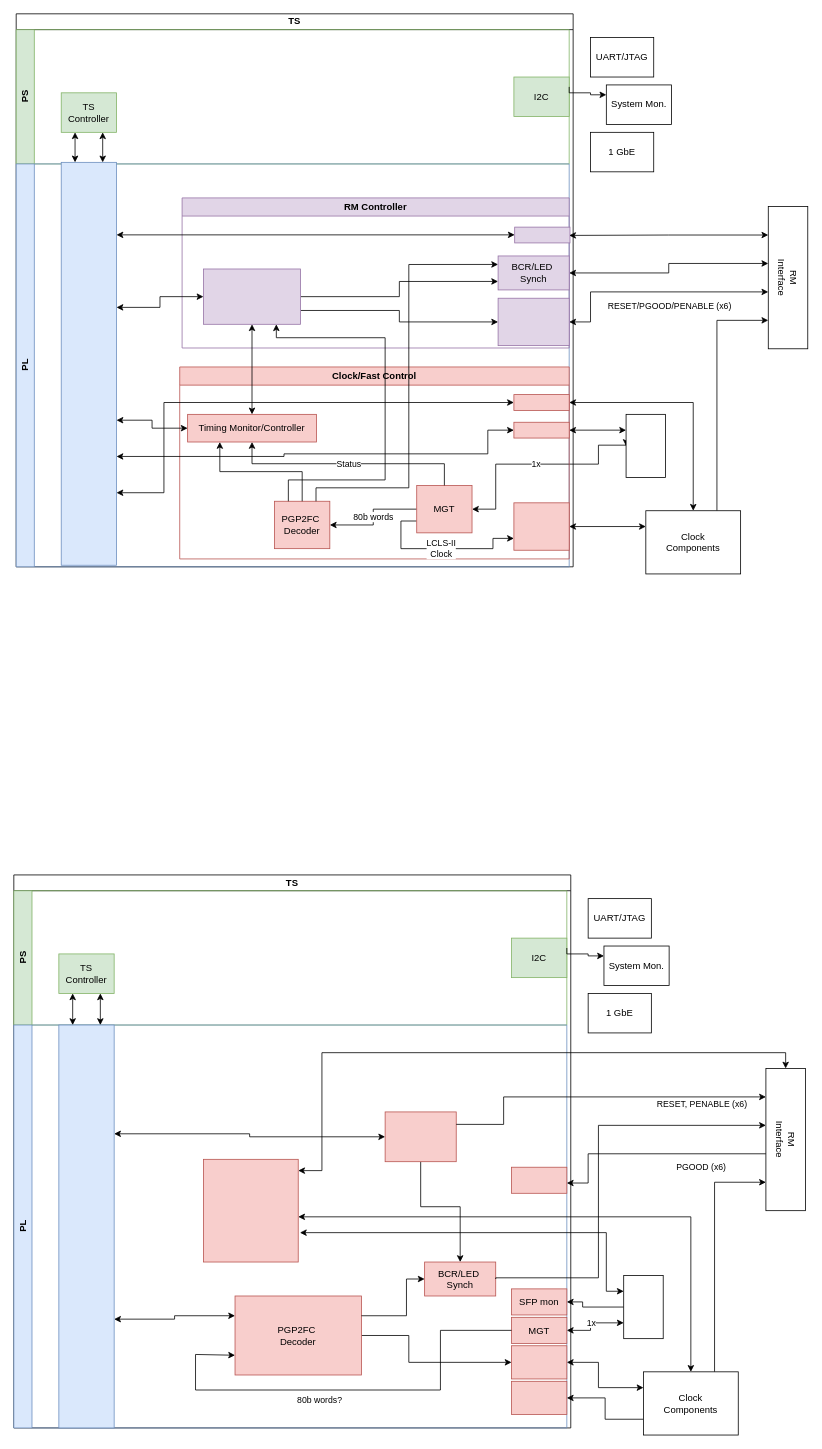
This 822x1449 diagram has some shape labels left out. The shapes that lost their labels are listed below. From the top down, each one's centre as x and y in pixels, then its label:
the point at 542,234: I2C IP (6x)
the point at 252,296: FSM Manager
the point at 533,321: GPIO IP
the point at 88,363: AXI Interconnect
the point at 541,402: I2C IP (2x)
the point at 541,429: I2C (IP)
the point at 645,446: SFP
the point at 541,526: Clock IO
the point at 420,1136: Local Registers
the point at 539,1179: RM mon
the point at 86,1226: SURF AXI Interconnect
the point at 250,1210: SURF AXI I2C Controller
the point at 643,1307: SFP (4x)
the point at 539,1362: DIFF_BUF
the point at 539,1397: CLK mon
